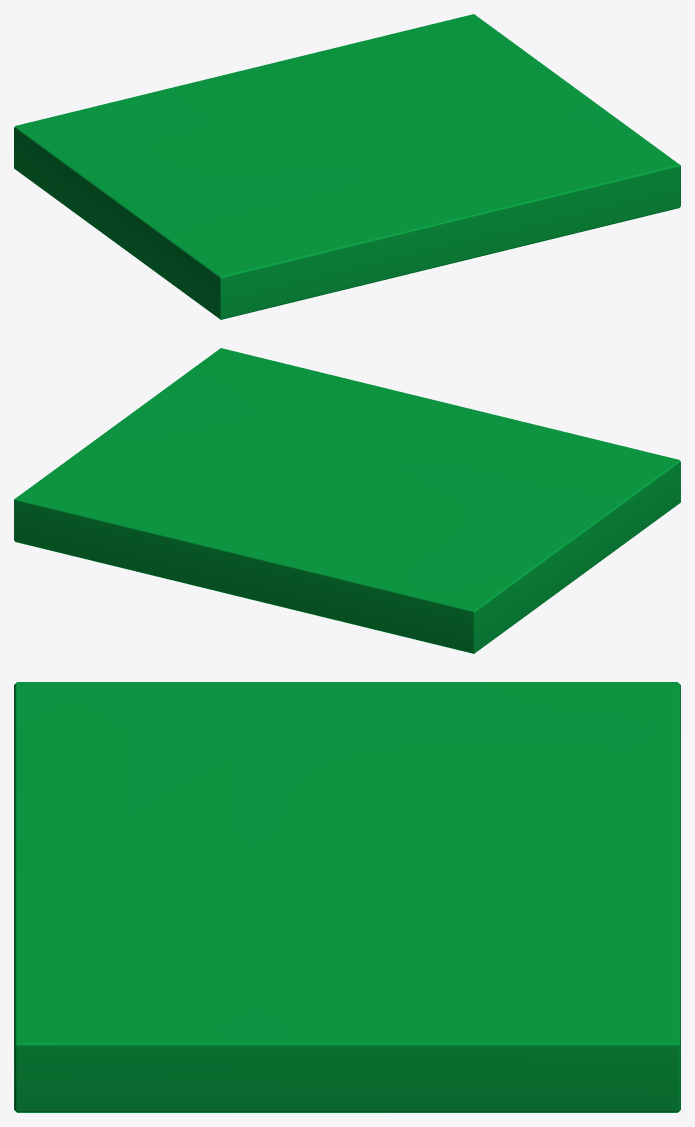
File: Town_17_Base_1.glb
3 views of the same model, one above another, from view 1: azimuth 30°, elevation 25°; view 2: azimuth 150°, elevation 25°; view 3: azimuth 270°, elevation 25° (orthographic). The views are drawn at different scales.
Parts seen in each view (by area): view 1: Town_17_Base_1; view 2: Town_17_Base_1; view 3: Town_17_Base_1.
Boxes of the visible parts, left/top/right/bottom form: Town_17_Base_1: left=14, top=14, right=680, bottom=319; Town_17_Base_1: left=14, top=348, right=680, bottom=653; Town_17_Base_1: left=14, top=682, right=680, bottom=1112.
Bounding box in the file's own units: 12.62 × 1.15 × 9.81.
Materials: 1 (1 with a texture image).
